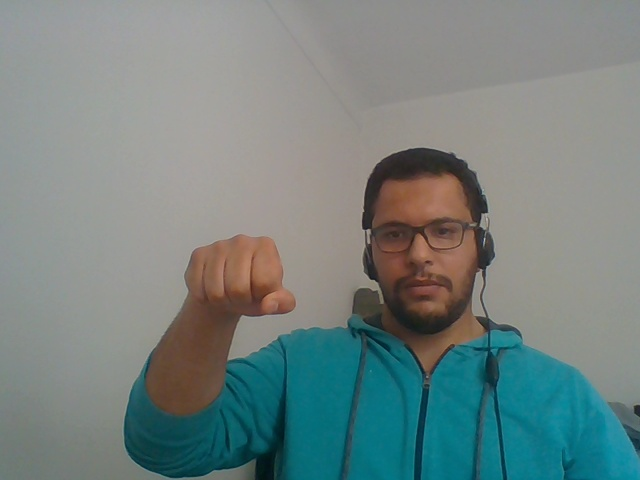yes: (164, 209, 301, 359)
